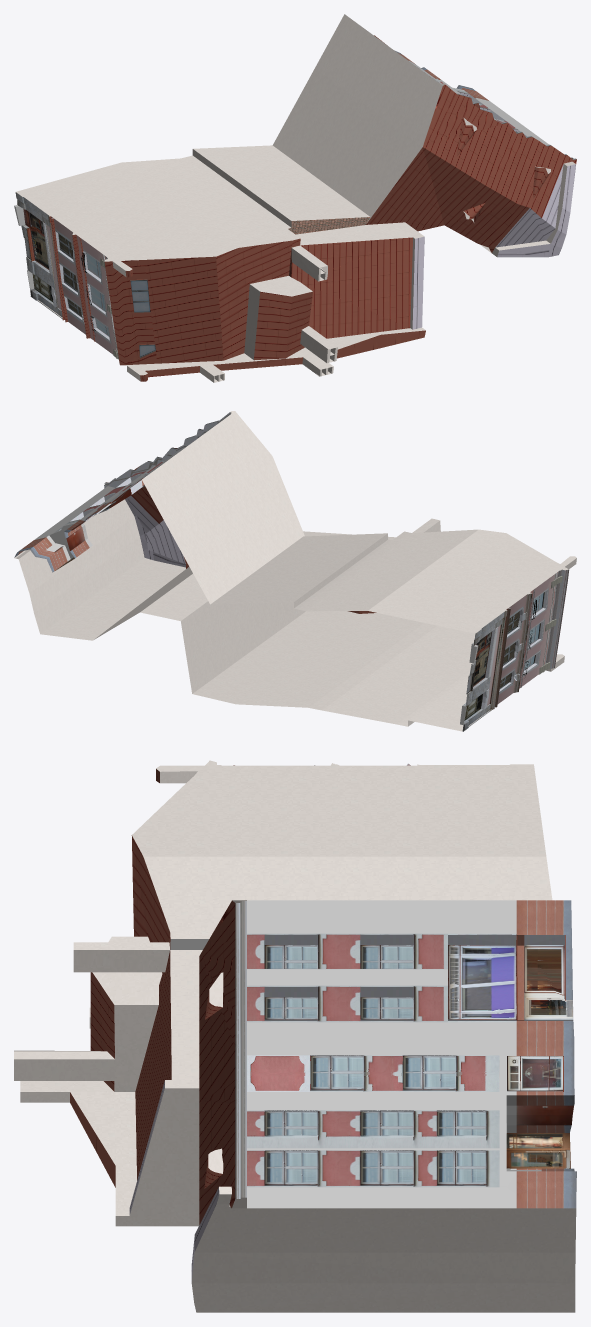
File: Suur_Karja_9-origo.obj
The picture shows the model from 3 angles, top to bottom: view 1: azimuth 30°, elevation 25°; view 2: azimuth 150°, elevation 25°; view 3: azimuth 270°, elevation 25°; orthographic projection. The views are drawn at different scales.
Parts seen in each view (by area): view 1: Suur_Karja_9; view 2: Suur_Karja_9; view 3: Suur_Karja_9.
Boxes of the visible parts, x1,y1,x2,y2 form: Suur_Karja_9: (14,14,576,382); Suur_Karja_9: (14,411,576,731); Suur_Karja_9: (14,760,576,1312).
Size of the model in its own units: 37.5 by 16 by 22.09.
